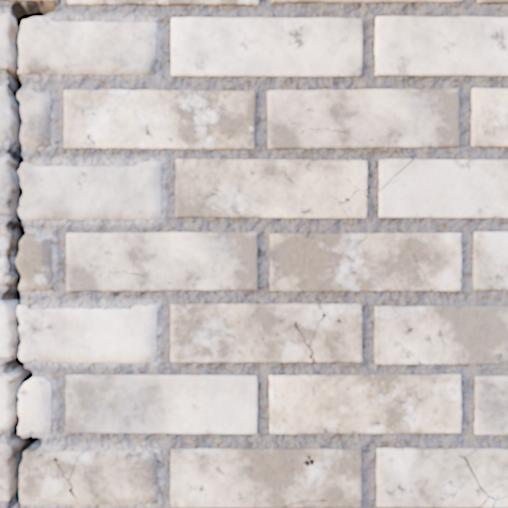brick: (268, 90, 458, 148), (65, 90, 254, 148), (270, 375, 460, 432), (171, 304, 361, 361), (176, 160, 366, 217), (172, 18, 361, 75), (67, 233, 256, 290), (67, 375, 256, 432), (171, 449, 360, 506), (270, 234, 460, 290), (376, 17, 507, 75), (375, 307, 507, 363), (380, 160, 507, 217), (377, 449, 485, 506), (472, 89, 507, 146), (467, 449, 507, 497), (474, 233, 507, 289), (475, 377, 507, 433), (68, 0, 257, 4), (380, 160, 408, 187), (343, 192, 366, 217), (272, 0, 461, 2), (495, 498, 507, 506), (478, 0, 507, 2), (484, 500, 492, 506)
broken_brick: (20, 161, 161, 220), (20, 16, 156, 75), (19, 304, 157, 362), (72, 450, 158, 504), (21, 450, 79, 505), (18, 233, 51, 290), (20, 377, 51, 435), (19, 88, 50, 146), (0, 442, 11, 501), (0, 12, 10, 70), (0, 157, 10, 215), (0, 85, 10, 142), (0, 372, 9, 430), (0, 302, 9, 357), (0, 227, 8, 285)
crack: (0, 0, 61, 507), (459, 448, 507, 507), (51, 451, 86, 504), (292, 311, 327, 362), (329, 185, 367, 217), (379, 159, 413, 191), (411, 253, 439, 291), (283, 499, 328, 507), (66, 389, 73, 398), (499, 360, 507, 363), (96, 451, 99, 456)
